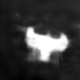plane: (15, 23, 73, 64)
